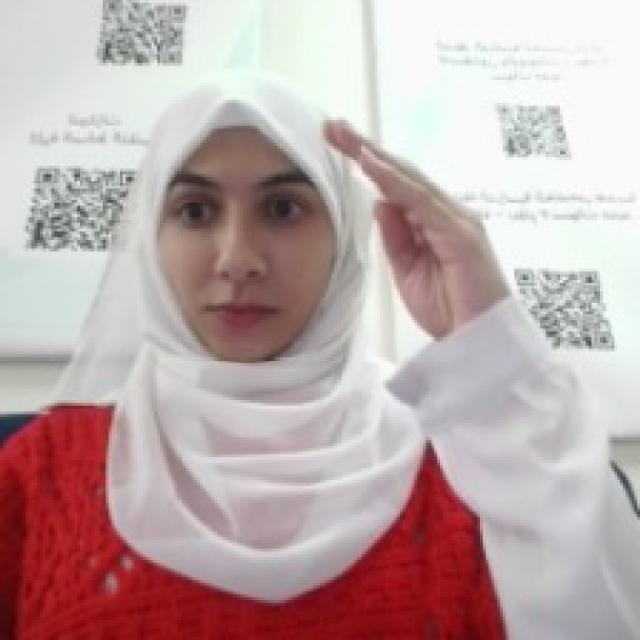Thanks: (311, 112, 500, 337)
